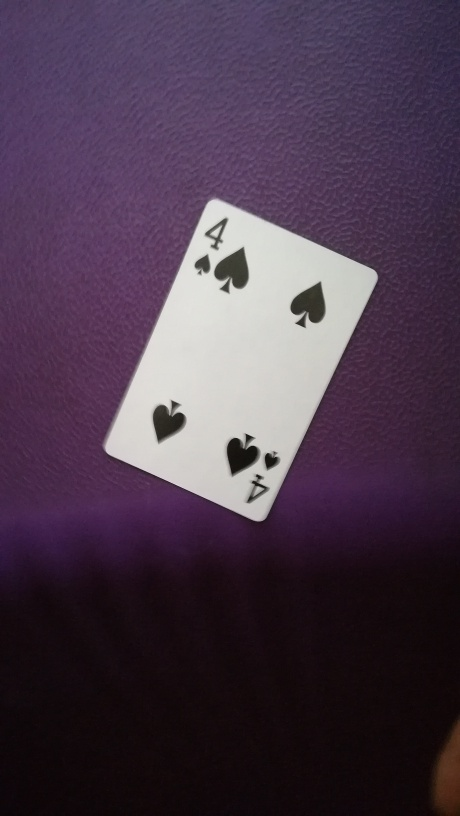ht 4: (101, 191, 380, 529)
